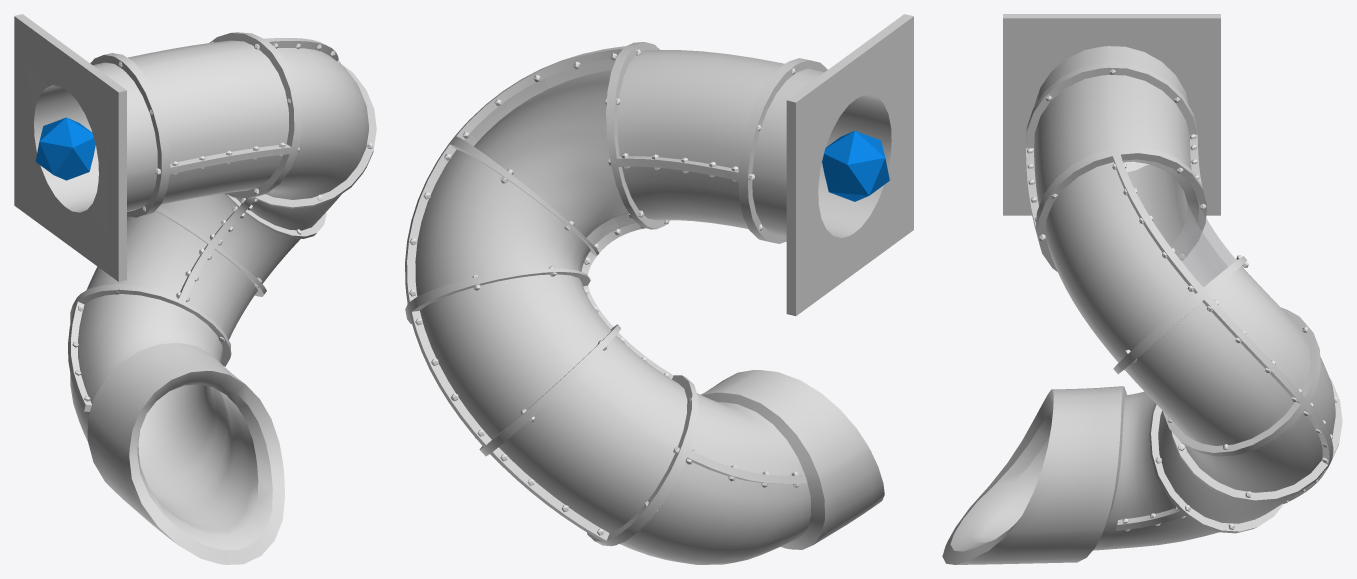
Rendered from Turbo twister slider 5' R clear.glb.
The picture shows the model from 3 angles, left to right: view 1: azimuth 30°, elevation 25°; view 2: azimuth 150°, elevation 25°; view 3: azimuth 270°, elevation 25°; orthographic projection. The views are drawn at different scales.
Parts seen in each view (by area): view 1: Turbo Twister Slider.002, Joint.053, Side winder slide.009; view 2: Turbo Twister Slider.002, Turbo Twister Slider.003, Joint.053, Side winder slide.009; view 3: Turbo Twister Slider.002, Turbo Twister Slider.003, Side winder slide.009.
Boxes of the visible parts, x1,y1,x2,y2 form: Turbo Twister Slider.002: (14,14,376,564); Joint.053: (35,117,95,180); Side winder slide.009: (72,42,372,401); Turbo Twister Slider.002: (405,14,913,564); Turbo Twister Slider.003: (464,59,636,245); Joint.053: (822,131,889,201); Side winder slide.009: (409,49,799,535); Turbo Twister Slider.002: (942,14,1342,564); Turbo Twister Slider.003: (1123,159,1236,287); Side winder slide.009: (1027,69,1338,531).
Bounding box in the file's own units: 1.81 × 2.29 × 1.68.
4 materials, 1 textured.
